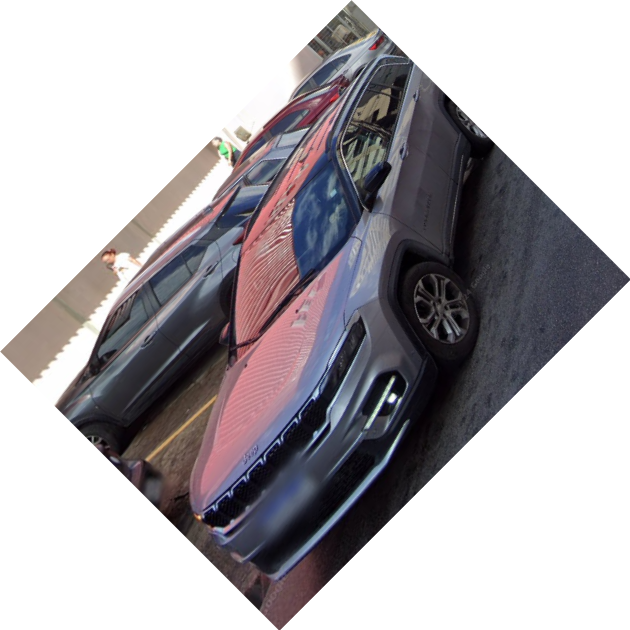car: (192, 51, 481, 575)
